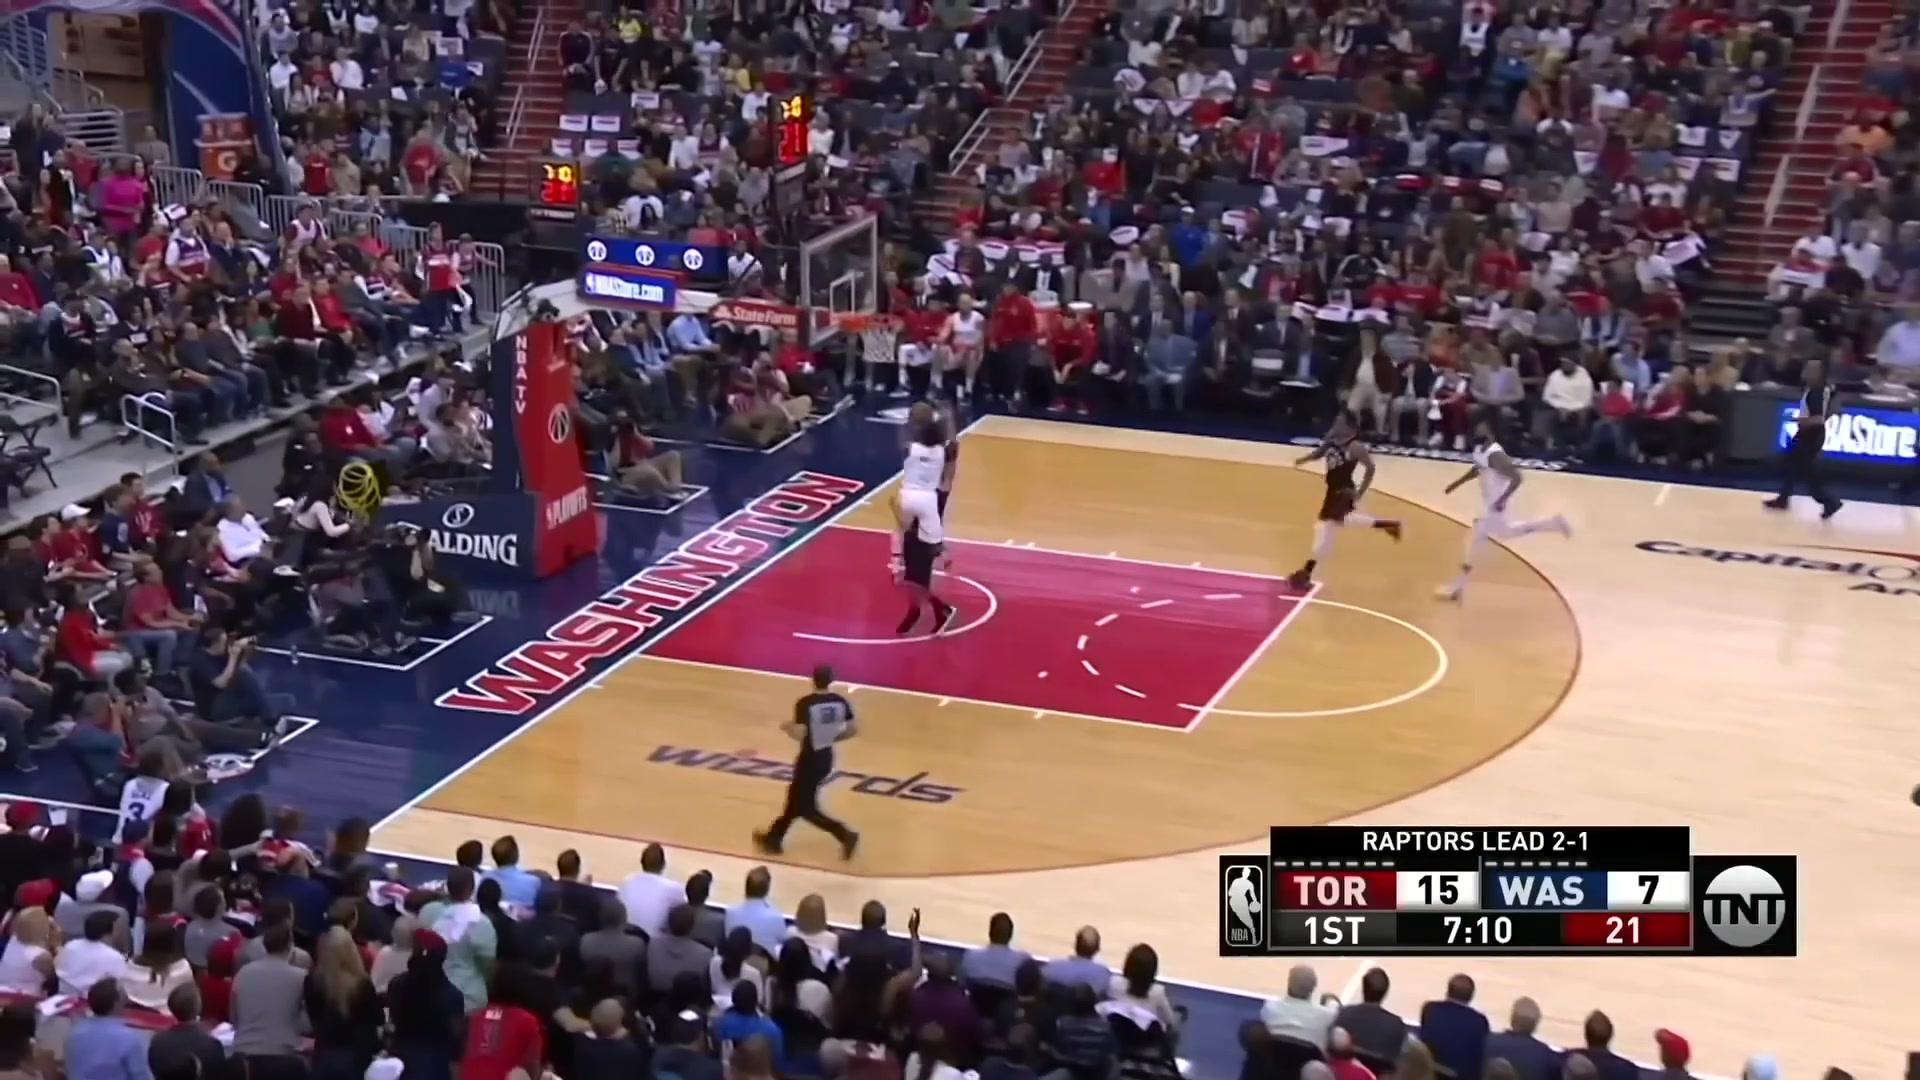foul: (865, 368, 989, 641)
